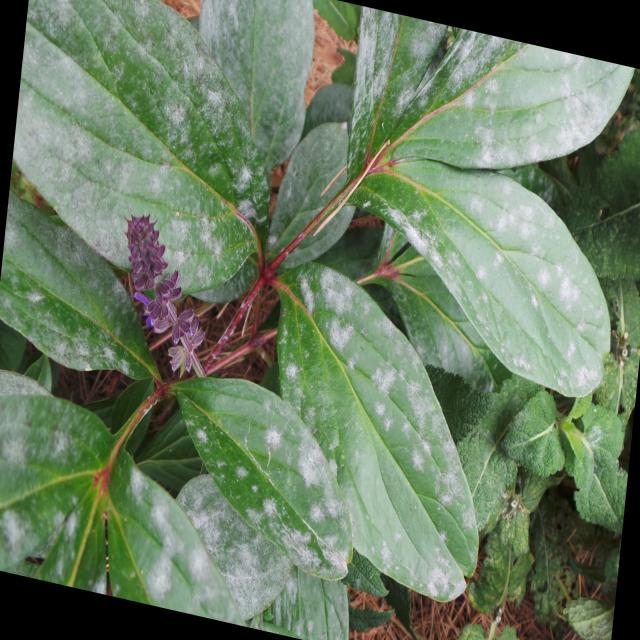Powdery Mildew: (27, 0, 287, 217), (132, 375, 336, 620), (320, 8, 480, 283)
